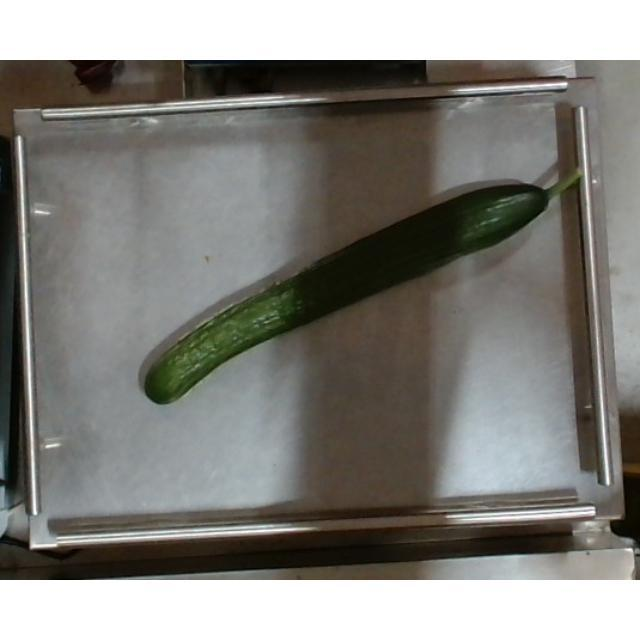cucumber: (142, 165, 584, 412)
